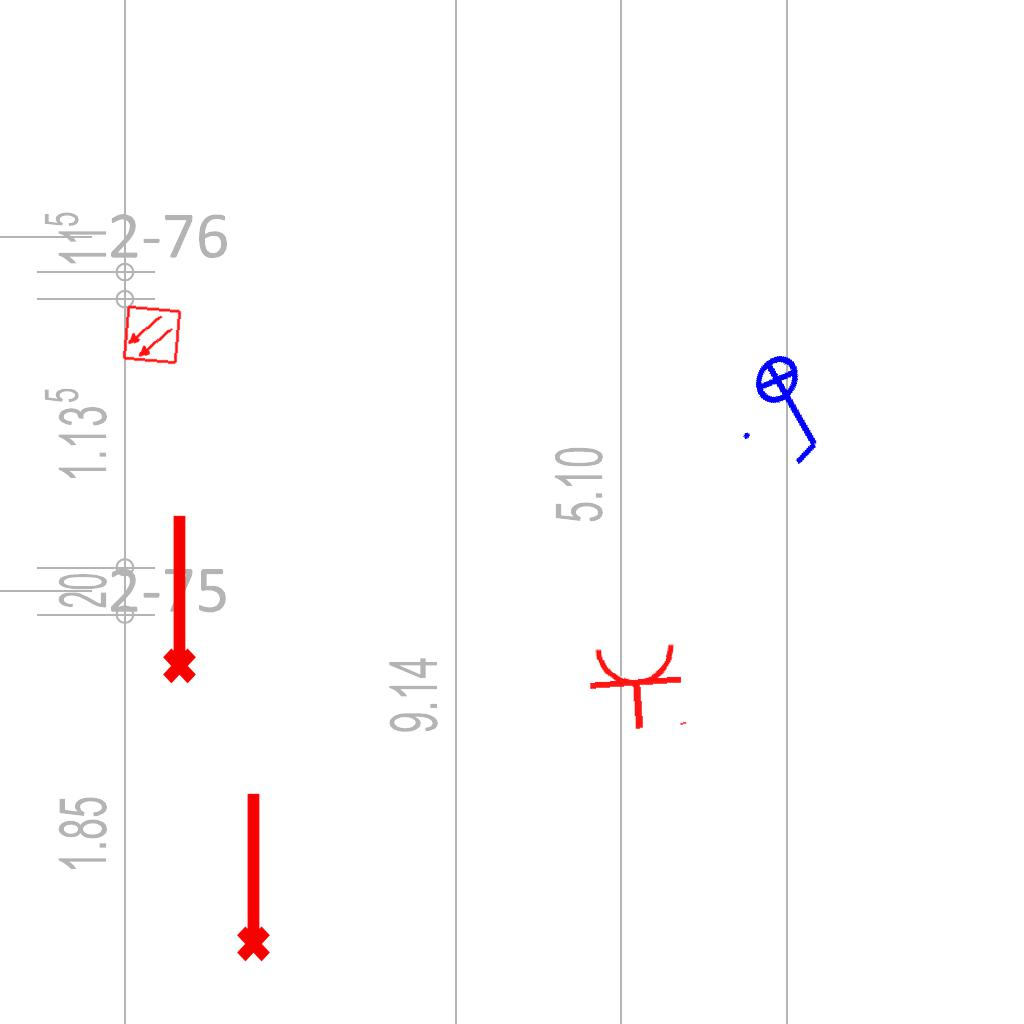ASR_Ansaugoeffnung: (154, 510, 200, 686), (228, 788, 274, 964)
Ausschalter_beleuchtet: (723, 335, 861, 479)
RMO_Rauchmelder_optischer: (121, 304, 183, 366)
Schukosteckdose_einfach: (585, 640, 692, 734)
